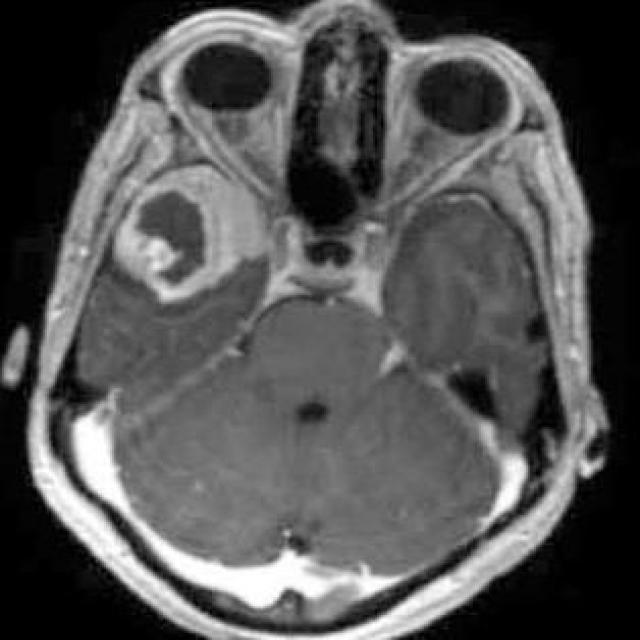Tumor: (114, 164, 271, 310)
